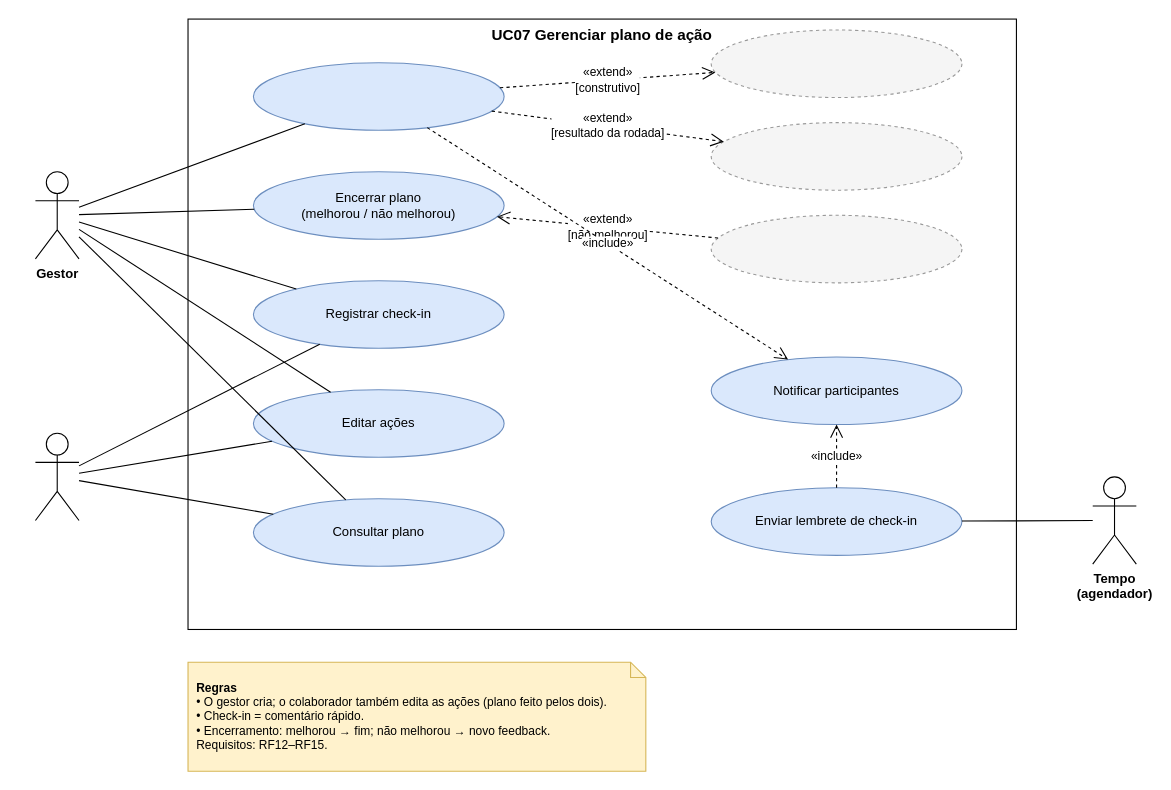
The diagram is 1171 pixels wide and 790 high, and some of its shapes have lost their labels. The box of each missing label's shape, as (x1, y1, x2, y2) in pixels:
Colaborador: (34, 432, 79, 520)
Criar plano de ação: (252, 62, 504, 130)
UC04 Dar feedback construtivo: (710, 29, 962, 98)
UC04 Dar novo feedback: (710, 214, 962, 283)
UC08 Conduzir rodada de avaliação: (710, 122, 962, 190)
